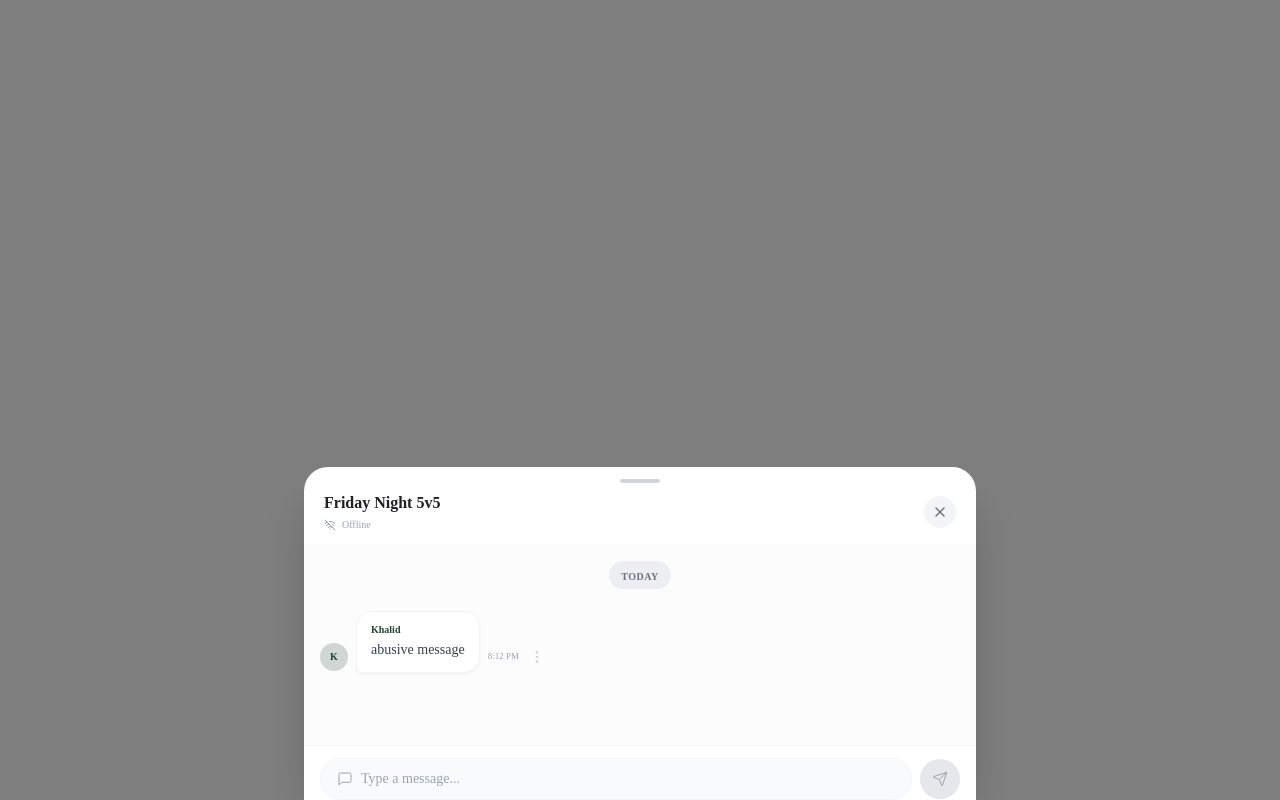
Scenario: ChatSheet › CS-10: tapping report opens the ReportSheet for that message (P1-31 parity)
Click the button named "Lobby message" at coordinates (537, 657), box [523,643,551,671]
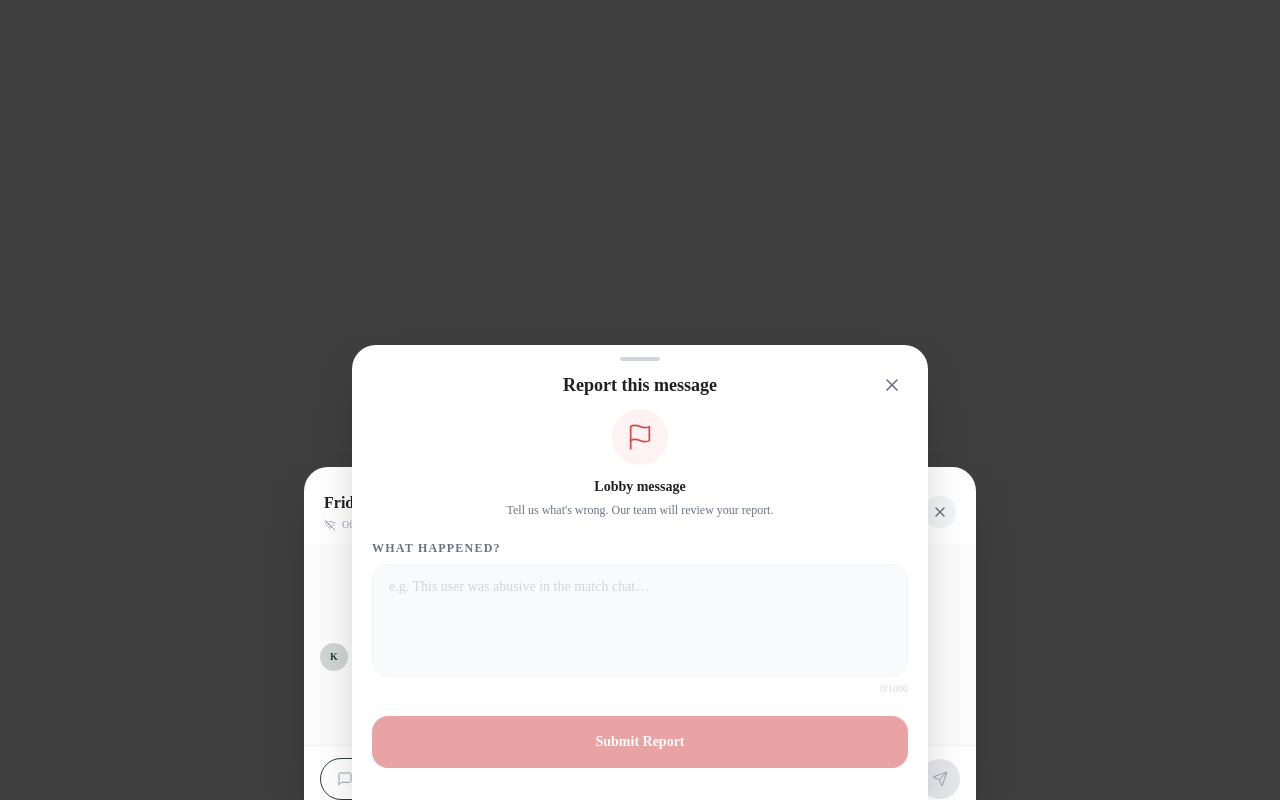
Check: the heading "Report this message" is shown, box [563,370,717,398]
Check: the text "Lobby message" is shown, box [594,476,686,496]
